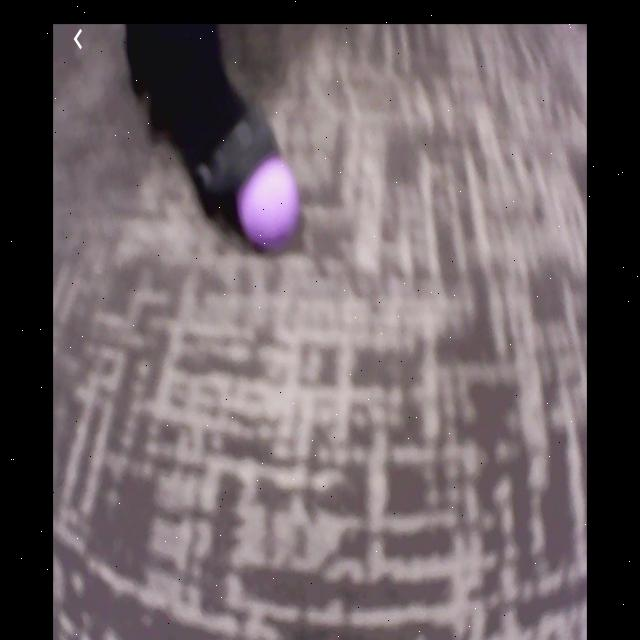ball: (236, 154, 302, 252)
